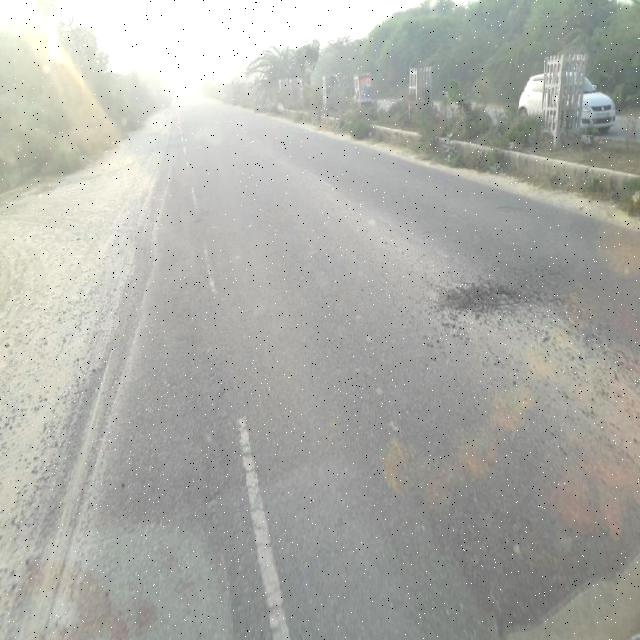D20: (465, 248, 602, 324)
